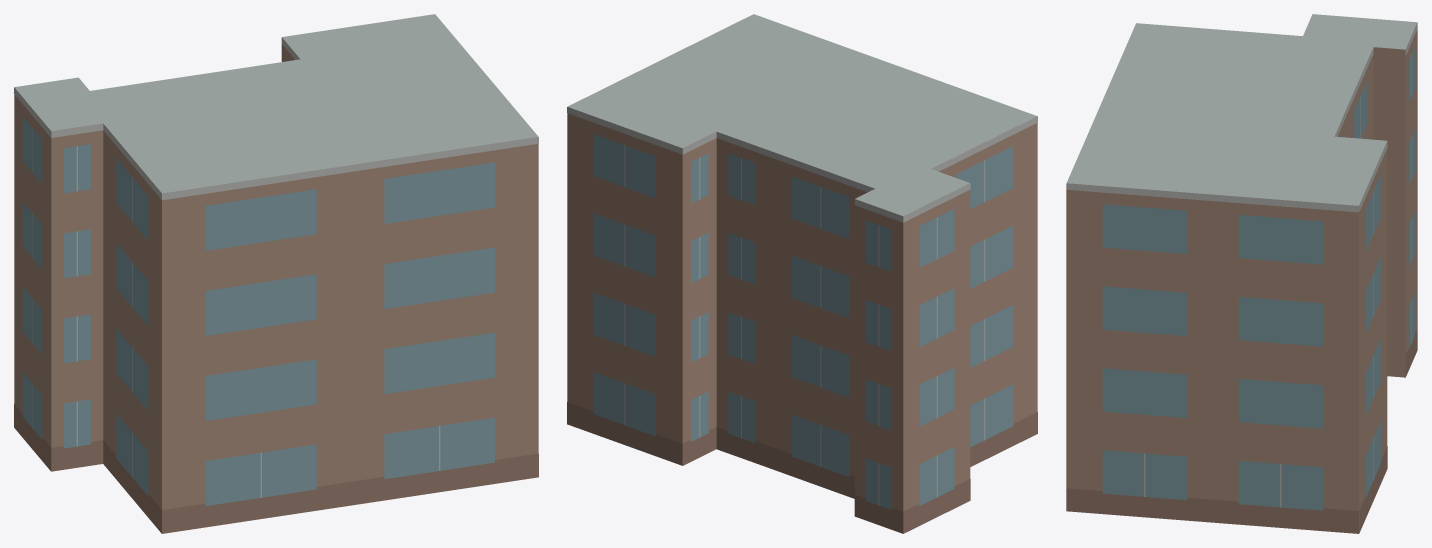
File: residential-20c9f2d1-a65f-4a54-9f6f-31fec1b93860.glb
3 views of the same model, side by side, from view 1: azimuth 30°, elevation 25°; view 2: azimuth 150°, elevation 25°; view 3: azimuth 270°, elevation 25° (orthographic). The views are drawn at different scales.
Visible parts, largest first — view 1: residential-20c9f2d1-a65f-4a54-9f6f-31fec1b93860.tmp; view 2: residential-20c9f2d1-a65f-4a54-9f6f-31fec1b93860.tmp; view 3: residential-20c9f2d1-a65f-4a54-9f6f-31fec1b93860.tmp.
Part boxes in pixels (left/top/right/bottom): residential-20c9f2d1-a65f-4a54-9f6f-31fec1b93860.tmp: left=14, top=14, right=538, bottom=533; residential-20c9f2d1-a65f-4a54-9f6f-31fec1b93860.tmp: left=567, top=14, right=1037, bottom=533; residential-20c9f2d1-a65f-4a54-9f6f-31fec1b93860.tmp: left=1066, top=14, right=1417, bottom=533.
Bounding box in the file's own units: 15.32 × 12.2 × 11.85.
